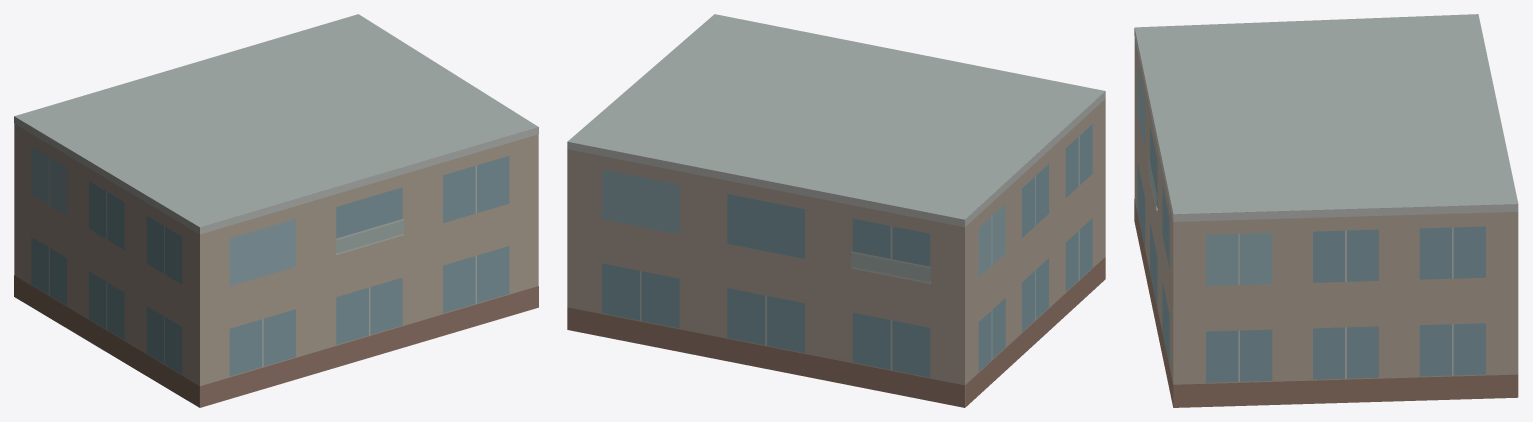
The model's file is survey-upis-32567461.glb.
3 views of the same model, side by side, from view 1: azimuth 30°, elevation 25°; view 2: azimuth 150°, elevation 25°; view 3: azimuth 270°, elevation 25° (orthographic). The views are drawn at different scales.
Visible parts, largest first — view 1: survey-upis-32567461.tmp; view 2: survey-upis-32567461.tmp; view 3: survey-upis-32567461.tmp.
Boxes of the visible parts, x1,y1,x2,y2 form: survey-upis-32567461.tmp: (14, 14, 538, 407); survey-upis-32567461.tmp: (567, 14, 1105, 407); survey-upis-32567461.tmp: (1134, 14, 1518, 407).
Size of the model in its own units: 13.54 by 6.1 by 10.97.
